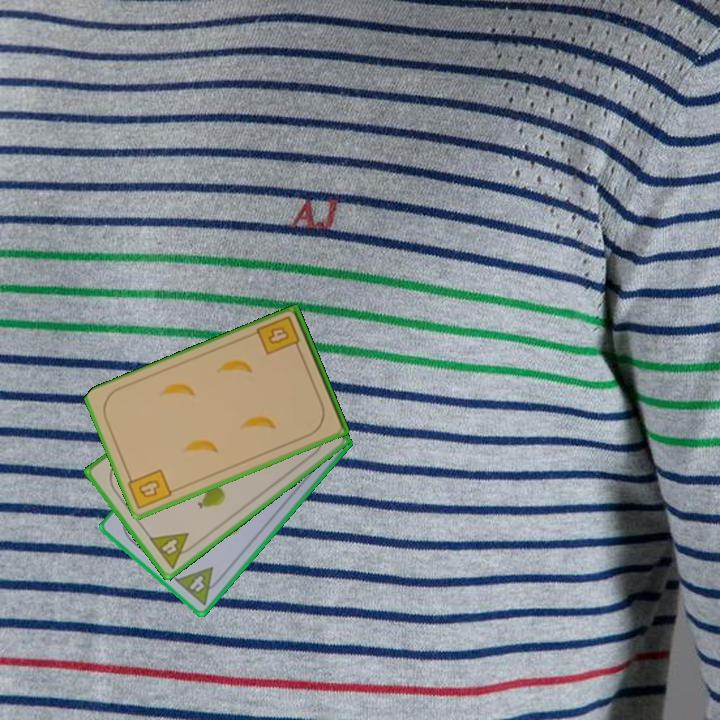4b: (123, 466, 175, 512), (254, 312, 304, 358)
4p: (172, 564, 226, 608), (145, 529, 200, 571)
